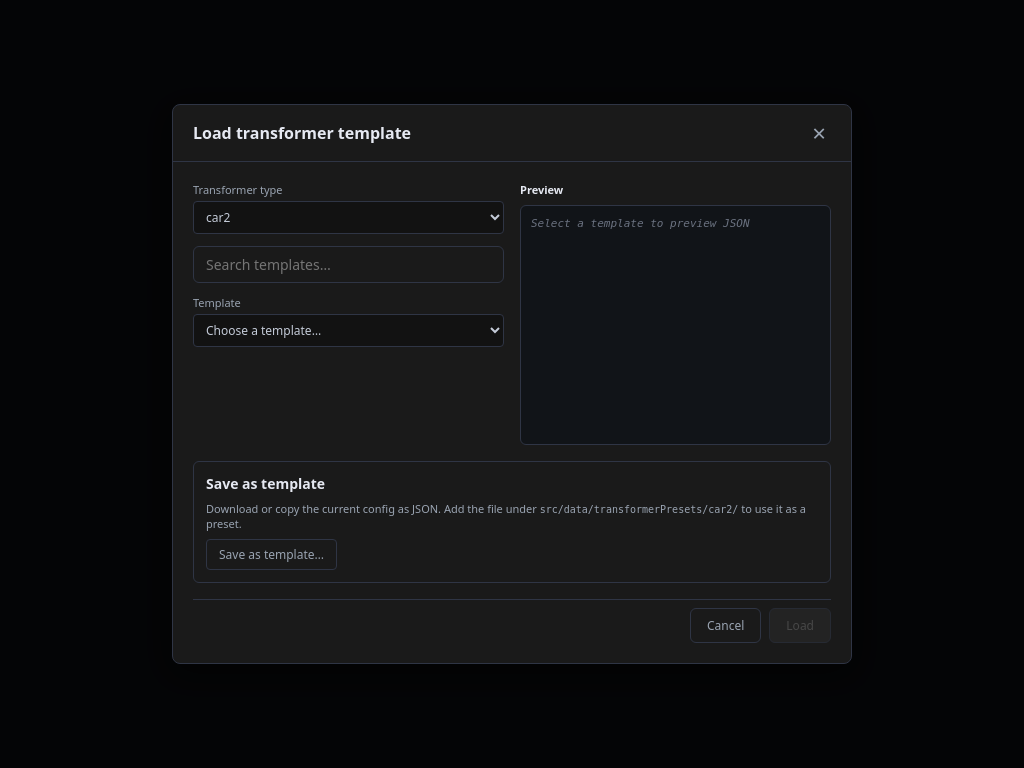
Test case: TransformerTemplateDialog › clears preview when template selection is cleared
Select "default" in the dropdown with test id "transformer-template-select" at (348, 330), box [193, 314, 504, 347]
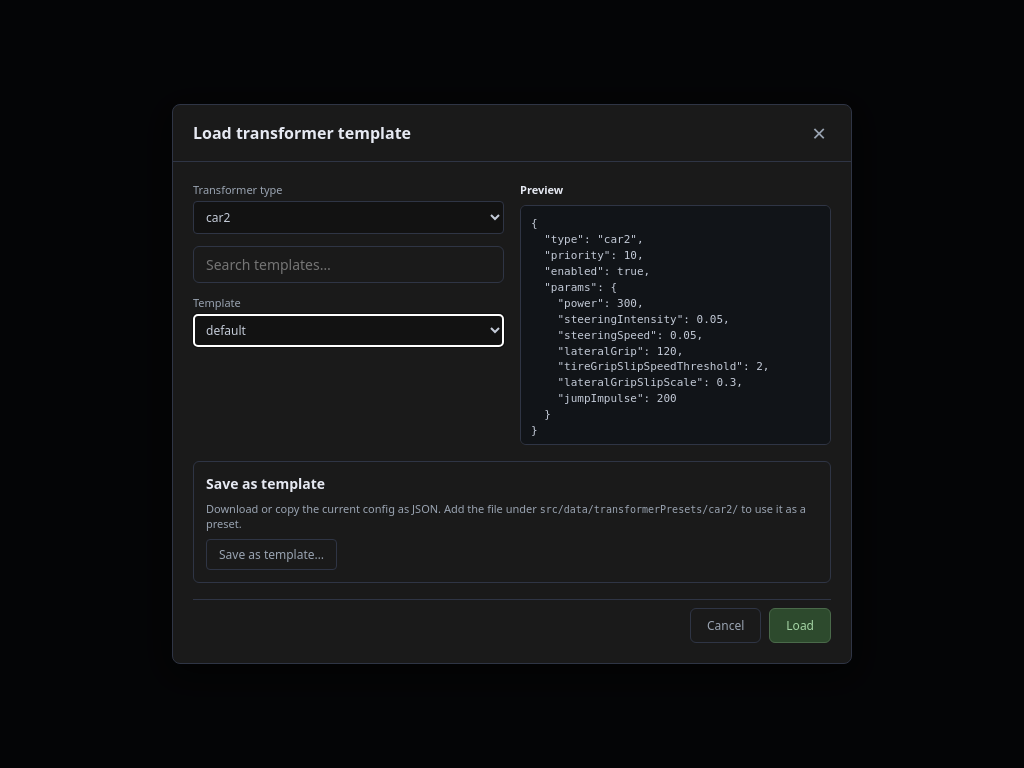
Expected: the text "\"type\": \"car2\"" is shown, [531, 217, 769, 437]
Select "Choose a template…" in the dropdown with test id "transformer-template-select" at (348, 330), box [193, 314, 504, 347]
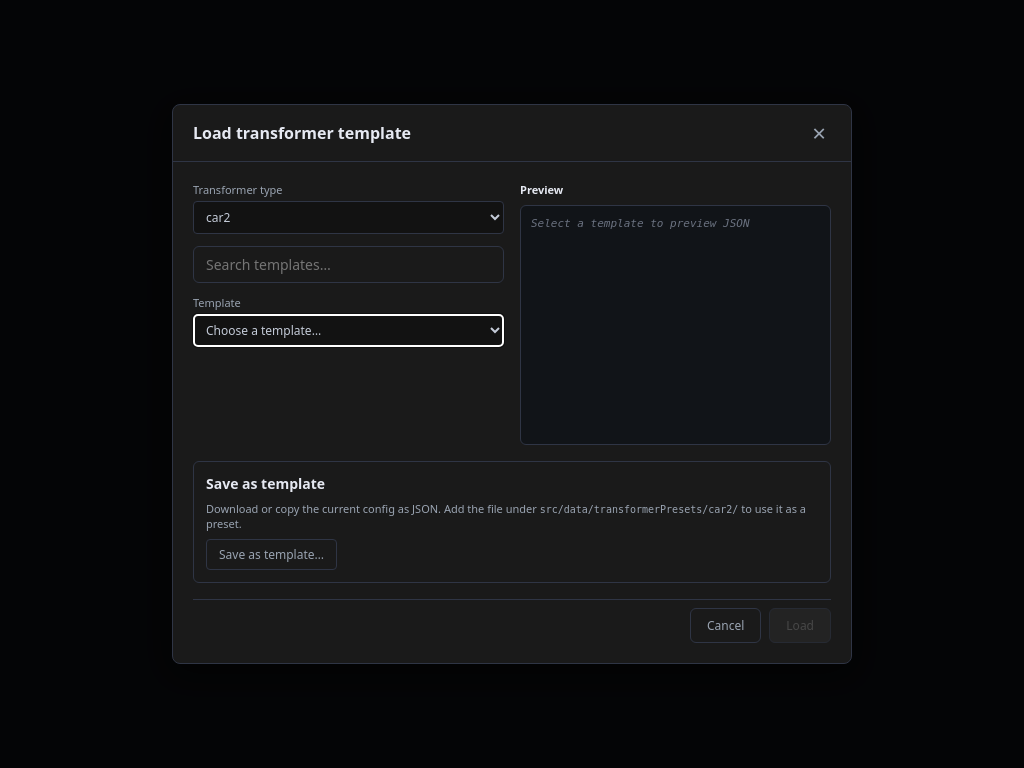
Expected: the element with test id "transformer-template-preview" reads "Select a template to preview JSON", [531, 217, 750, 230]
